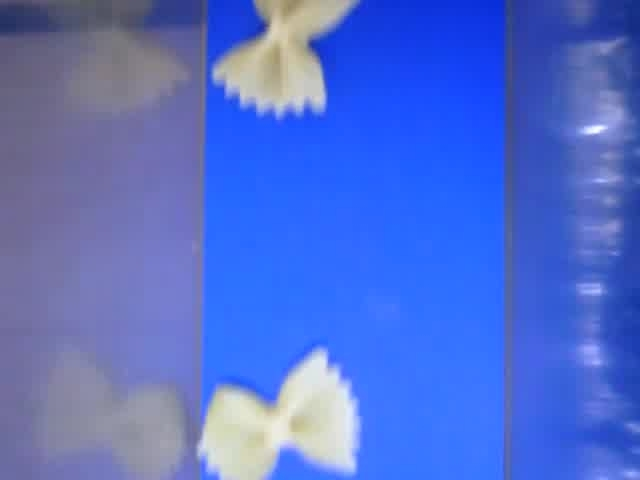farfalle: (196, 346, 359, 480), (210, 1, 359, 119)
